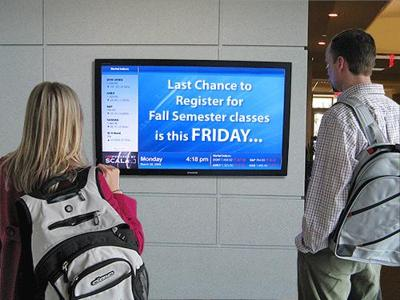person: (296, 28, 400, 300)
